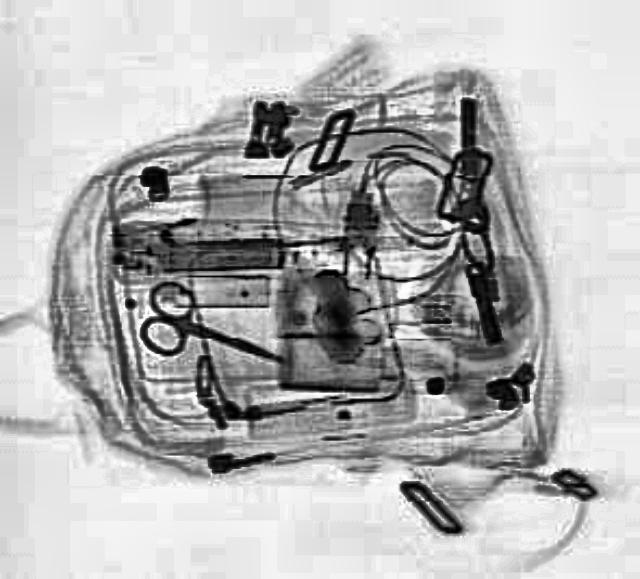Scissors: (120, 274, 298, 392)
